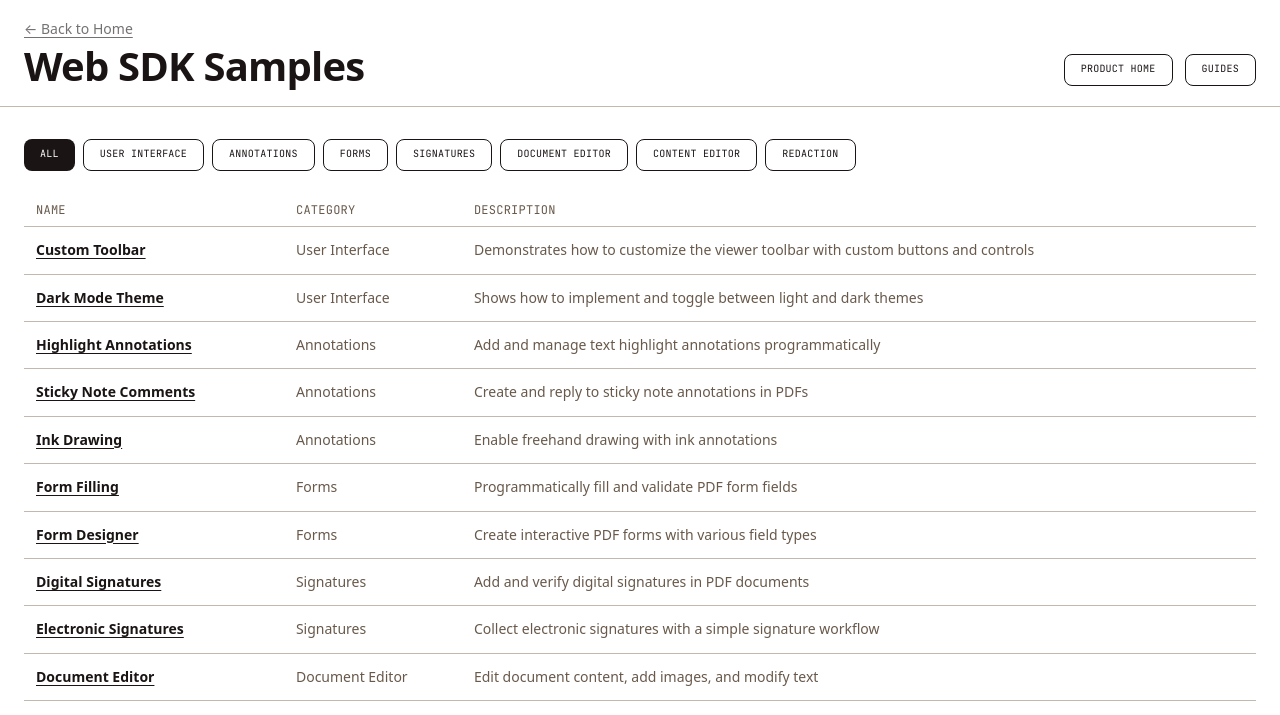
Test case: Web SDK Samples Page Filtering › should filter samples by User Interface category
This screenshot has width=1280, height=715.
Click the button "User Interface".
click(143, 155)  # box [83,139,204,171]
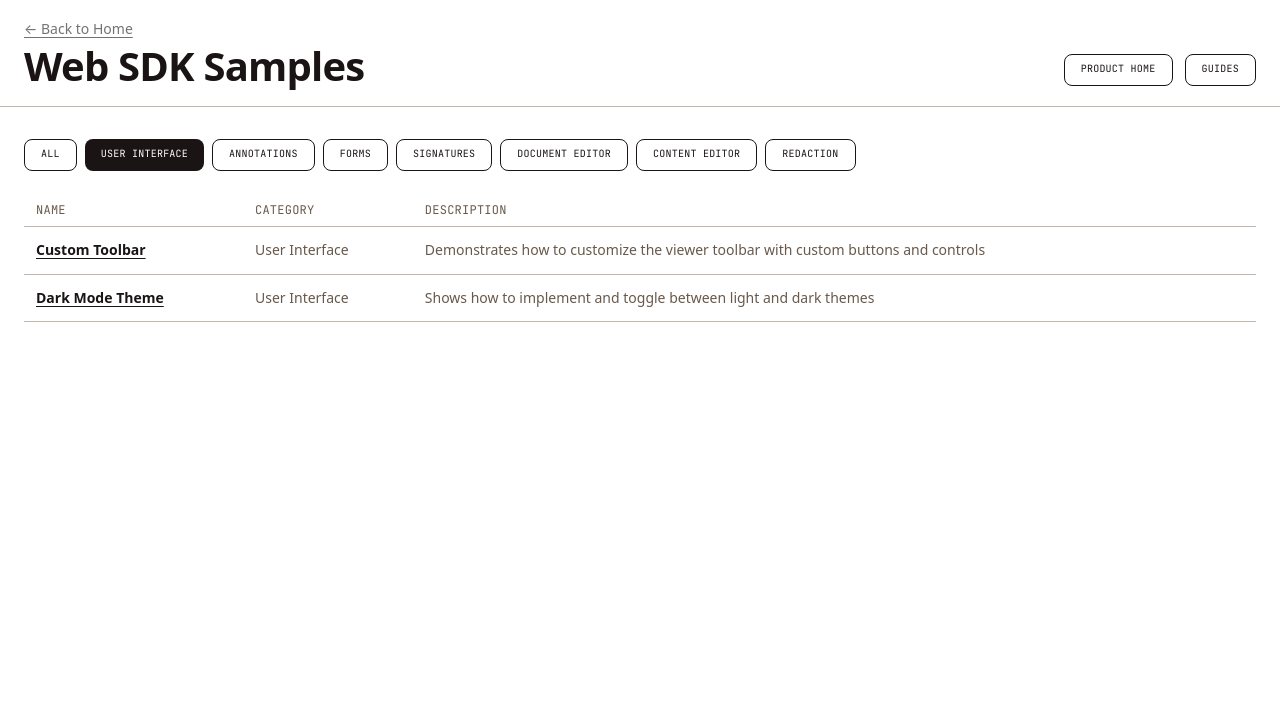
expect the link "Custom Toolbar" is shown: met, box [36,240,146,259]
expect the link "Highlight Annotations" is gone: met
expect the link "Form Filling" is gone: met
